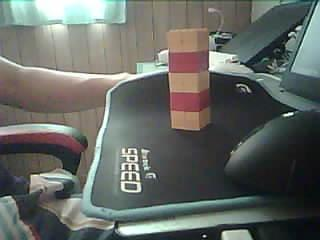lego: (166, 28, 212, 131)
